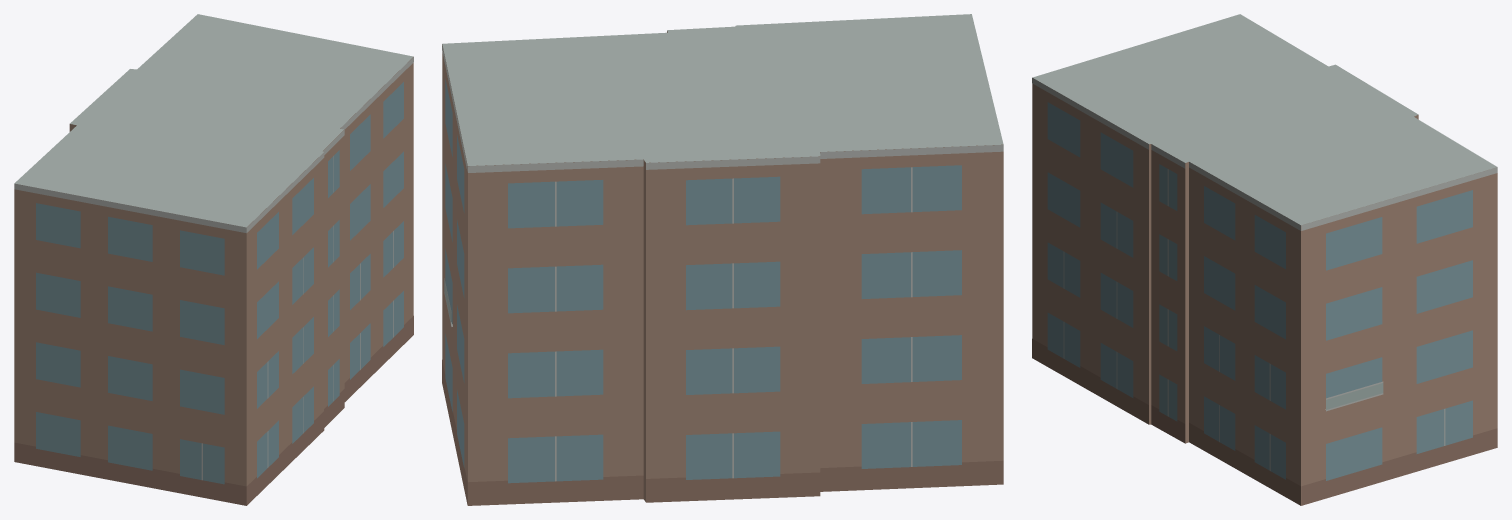
The model's file is survey-upis-32534073.glb.
3 renders of one model, left to right at view 1: azimuth 30°, elevation 25°; view 2: azimuth 150°, elevation 25°; view 3: azimuth 270°, elevation 25°, orthographic. The views are drawn at different scales.
Visible parts, largest first — view 1: survey-upis-32534073.tmp; view 2: survey-upis-32534073.tmp; view 3: survey-upis-32534073.tmp.
Part boxes in pixels (x1=…): survey-upis-32534073.tmp: x1=14, y1=14, x2=413, y2=505; survey-upis-32534073.tmp: x1=442, y1=14, x2=1003, y2=505; survey-upis-32534073.tmp: x1=1032, y1=14, x2=1497, y2=505.
Bounding box in the file's own units: 19.07 × 11.8 × 17.75.
